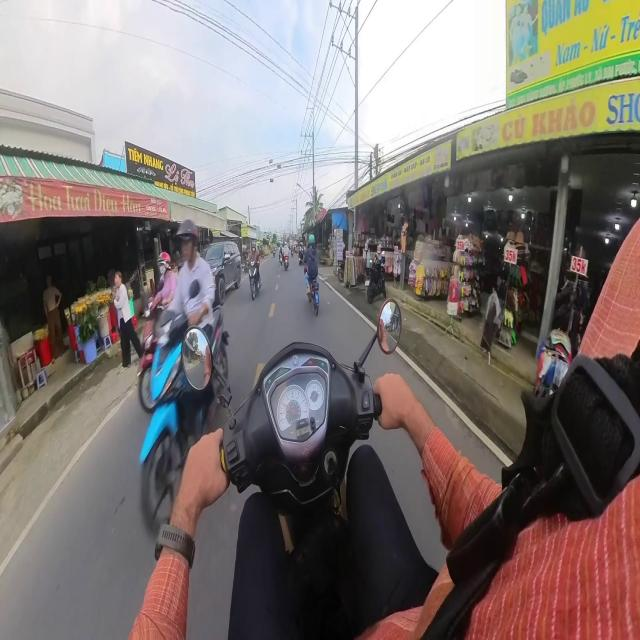car: (204, 242, 241, 305)
motorcycle: (221, 323, 400, 638), (139, 311, 228, 532), (138, 299, 164, 413), (366, 255, 386, 303), (249, 261, 261, 301), (307, 278, 319, 315), (284, 256, 288, 270)
